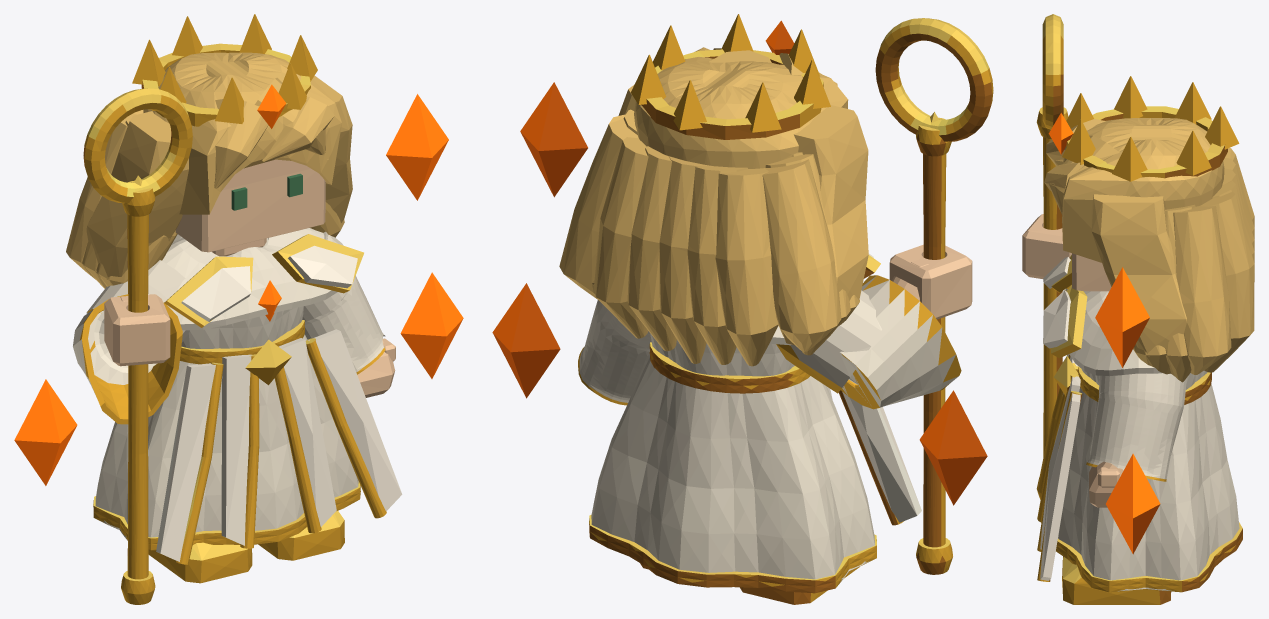
The model's file is ladyclaire.glb.
3 views of the same model, side by side, from view 1: azimuth 30°, elevation 25°; view 2: azimuth 150°, elevation 25°; view 3: azimuth 270°, elevation 25° (orthographic). The views are drawn at different scales.
Visible parts, largest first — view 1: Hair — continuous source crown fringe temples and flowing re, Clothing — continuous connected deeply pleated source robe, Head — one continuous source cuboid skull and concealed crow, Weapon — source straight coaxial staff shaft, Clothing — right V7 continuous outer source shoulder elbow c, Weapon — curved thick open-ring gold crozier, Clothing — thin fitted draped ceremonial mantle shoulder she, Clothing — right broad flowing ivory skirt panel 2, Clothing — right broad flowing ivory skirt panel 1, Clothing — left broad flowing ivory skirt panel 2, Clothing — left broad flowing ivory skirt panel 1, Hand — right stronger compact source grasp continuous with a (+29 smaller); view 2: Hair — continuous source crown fringe temples and flowing re, Clothing — continuous connected deeply pleated source robe, Clothing — right V7 continuous outer source shoulder elbow c, Weapon — curved thick open-ring gold crozier, Weapon — source straight coaxial staff shaft, Clothing — left V7 continuous outer source shoulder elbow cu, Clothing — sculpted gold skirt hem, Hand — right stronger compact source grasp continuous with a, VFX — separate broad amber crystal 2, VFX — separate broad amber crystal 3, VFX — separate broad amber crystal 1, Clothing — right broad flowing ivory skirt panel 2 (+12 smaller); view 3: Hair — continuous source crown fringe temples and flowing re, Clothing — continuous connected deeply pleated source robe, Clothing — left V7 continuous outer source shoulder elbow cu, VFX — separate broad amber crystal 3, VFX — separate broad amber crystal 2, Clothing — thin fitted draped ceremonial mantle shoulder she, Clothing — sculpted gold skirt hem, Clothing — left broad flowing ivory skirt panel 2, Weapon — source straight coaxial staff shaft, Weapon — curved thick open-ring gold crozier, Foot — left visible planted robe boot, Headwear — actually seated closed gold crown rim (+19 smaller).
Part boxes in pixels (x1,y1,x2,y2): Hair — continuous source crown fringe temples and flowing re: (66, 52, 352, 288); Clothing — continuous connected deeply pleated source robe: (95, 238, 358, 540); Head — one continuous source cuboid skull and concealed crow: (175, 159, 325, 252); Weapon — source straight coaxial staff shaft: (127, 214, 148, 579); Clothing — right V7 continuous outer source shoulder elbow c: (73, 260, 189, 424); Weapon — curved thick open-ring gold crozier: (83, 88, 192, 203); Clothing — thin fitted draped ceremonial mantle shoulder she: (162, 228, 343, 330); Clothing — right broad flowing ivory skirt panel 2: (156, 363, 216, 561); Clothing — right broad flowing ivory skirt panel 1: (221, 354, 252, 545); Clothing — left broad flowing ivory skirt panel 2: (308, 329, 402, 511); Clothing — left broad flowing ivory skirt panel 1: (279, 338, 336, 526); Hand — right stronger compact source grasp continuous with a: (104, 294, 170, 366); Hair — continuous source crown fringe temples and flowing re: (559, 47, 868, 366); Clothing — continuous connected deeply pleated source robe: (591, 333, 874, 583); Clothing — right V7 continuous outer source shoulder elbow c: (776, 275, 961, 409); Weapon — curved thick open-ring gold crozier: (875, 18, 993, 141); Weapon — source straight coaxial staff shaft: (923, 154, 946, 547); Clothing — left V7 continuous outer source shoulder elbow cu: (578, 300, 651, 405); Clothing — sculpted gold skirt hem: (589, 514, 876, 593); Hand — right stronger compact source grasp continuous with a: (889, 244, 972, 319); VFX — separate broad amber crystal 2: (520, 82, 587, 197); VFX — separate broad amber crystal 3: (492, 283, 560, 398); VFX — separate broad amber crystal 1: (919, 390, 987, 505); Clothing — right broad flowing ivory skirt panel 2: (842, 392, 921, 522); Hair — continuous source crown fringe temples and flowing re: (1044, 118, 1254, 382); Clothing — continuous connected deeply pleated source robe: (1058, 291, 1239, 591); Clothing — left V7 continuous outer source shoulder elbow cu: (1086, 373, 1186, 481); VFX — separate broad amber crystal 3: (1106, 453, 1160, 554); VFX — separate broad amber crystal 2: (1095, 267, 1149, 367); Clothing — thin fitted draped ceremonial mantle shoulder she: (1069, 291, 1161, 375); Clothing — sculpted gold skirt hem: (1056, 522, 1242, 592); Clothing — left broad flowing ivory skirt panel 2: (1040, 393, 1080, 580); Weapon — source straight coaxial staff shaft: (1043, 137, 1062, 456); Weapon — curved thick open-ring gold crozier: (1042, 14, 1063, 129); Foot — left visible planted robe boot: (1062, 557, 1171, 604); Headwear — actually seated closed gold crown rim: (1066, 106, 1227, 178).
Size of the model in its own units: 0.992 by 1.07 by 0.4647.
